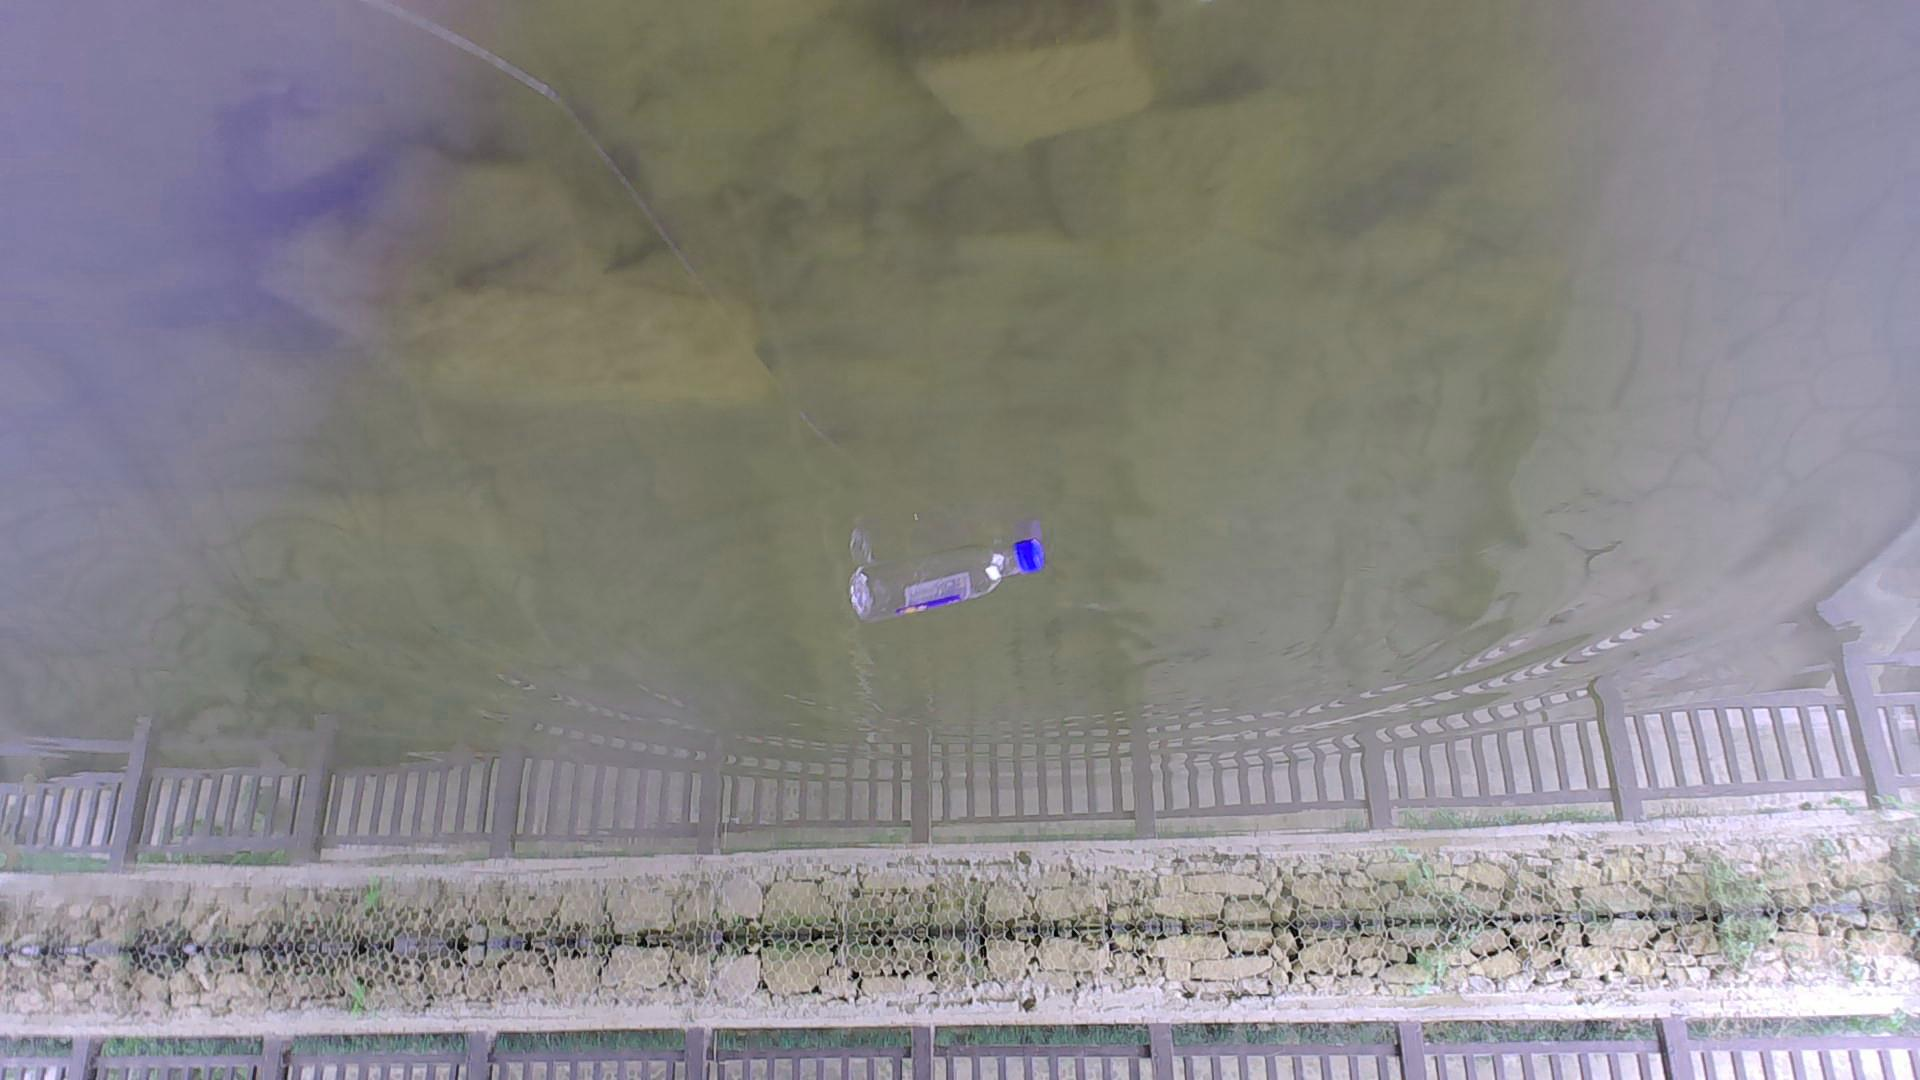Plastic: (843, 535, 1051, 636)
